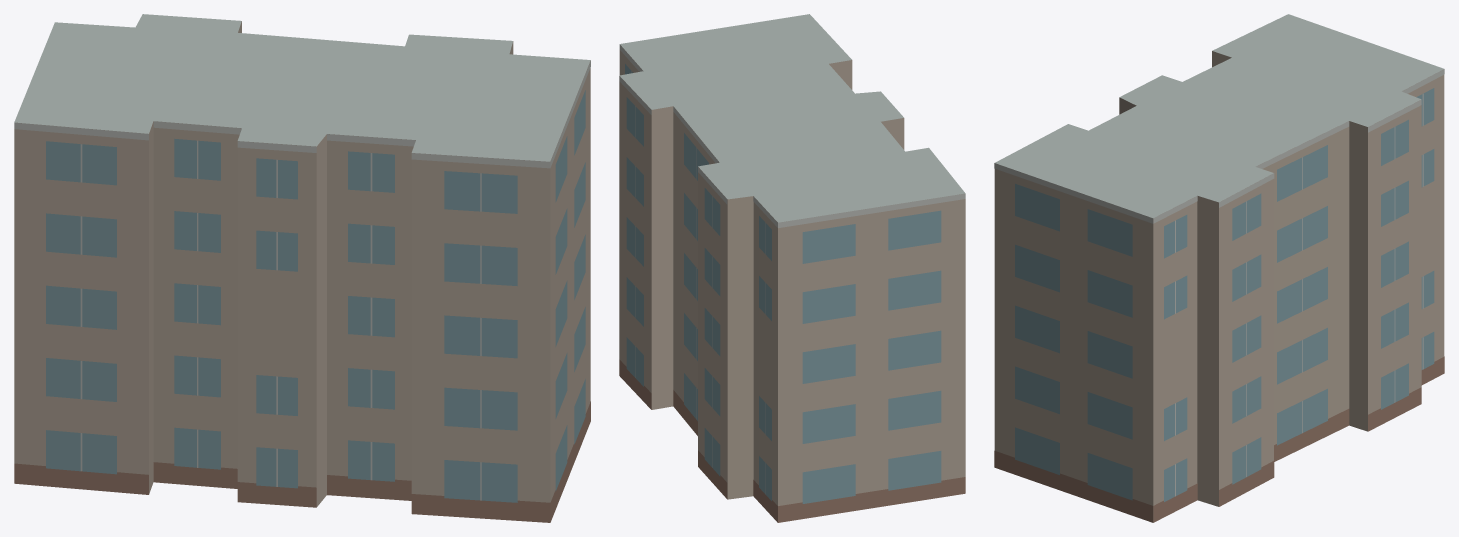
The model's file is survey-upis-32693105.glb.
The picture shows the model from 3 angles, left to right: view 1: azimuth 30°, elevation 25°; view 2: azimuth 150°, elevation 25°; view 3: azimuth 270°, elevation 25°; orthographic projection. The views are drawn at different scales.
Parts seen in each view (by area): view 1: survey-upis-32693105.tmp; view 2: survey-upis-32693105.tmp; view 3: survey-upis-32693105.tmp.
Part boxes in pixels (x1,y1,x2,y2): survey-upis-32693105.tmp: [14, 14, 590, 522]; survey-upis-32693105.tmp: [619, 14, 965, 522]; survey-upis-32693105.tmp: [994, 14, 1444, 522].
Size of the model in its own units: 19.14 by 13.3 by 17.82.
